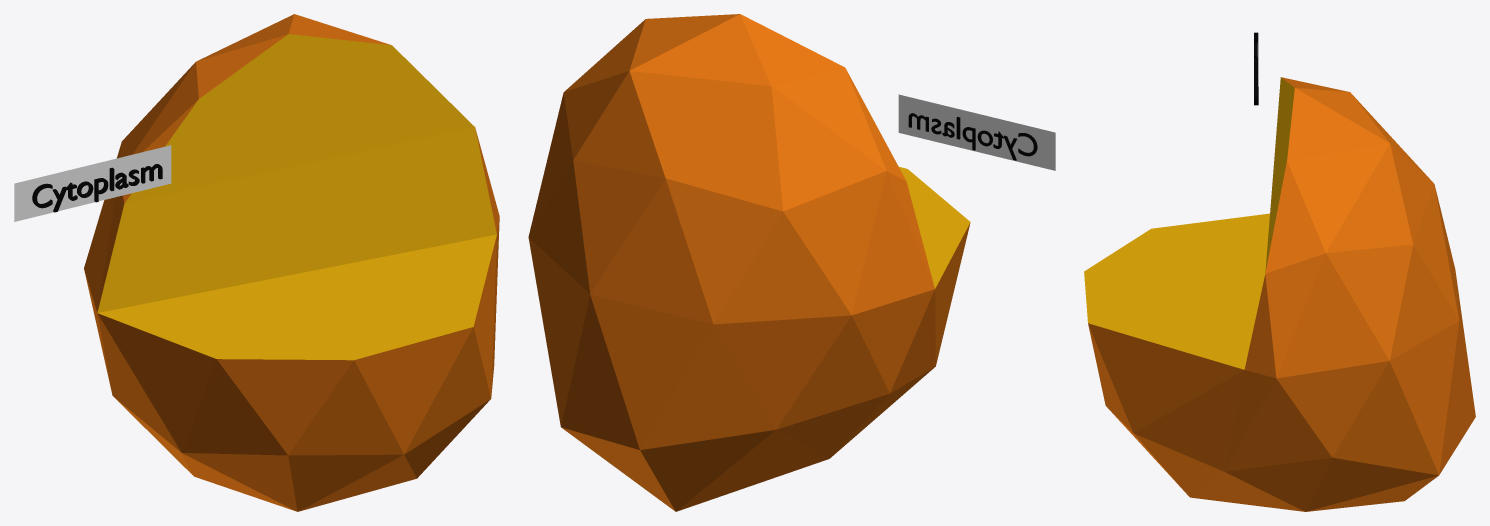
The model's file is cytoplasm.gltf.
The picture shows the model from 3 angles, left to right: view 1: azimuth 30°, elevation 25°; view 2: azimuth 150°, elevation 25°; view 3: azimuth 270°, elevation 25°; orthographic projection. The views are drawn at different scales.
Visible parts, largest first — view 1: Icosphere, Plane.010, Text.013; view 2: Icosphere, Plane.010, Text.013; view 3: Icosphere.
Boxes of the visible parts, box(x1,y1,x2,y2) form: Icosphere: box(84, 14, 499, 511); Plane.010: box(14, 145, 171, 221); Text.013: box(32, 164, 162, 212); Icosphere: box(528, 14, 970, 511); Plane.010: box(898, 94, 1055, 170); Text.013: box(908, 113, 1037, 160); Icosphere: box(1084, 77, 1475, 511).
Bounding box in the file's own units: 4.21 × 3.7 × 3.19.
